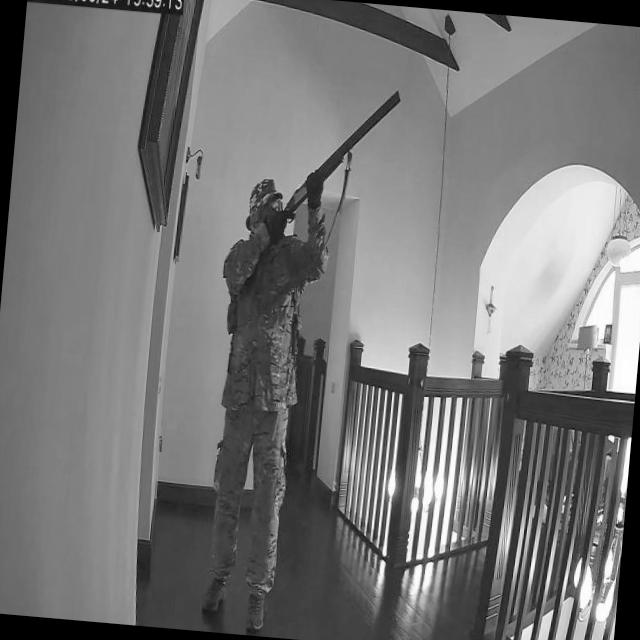gun: (267, 78, 403, 235)
person with a gun: (190, 74, 408, 637)
